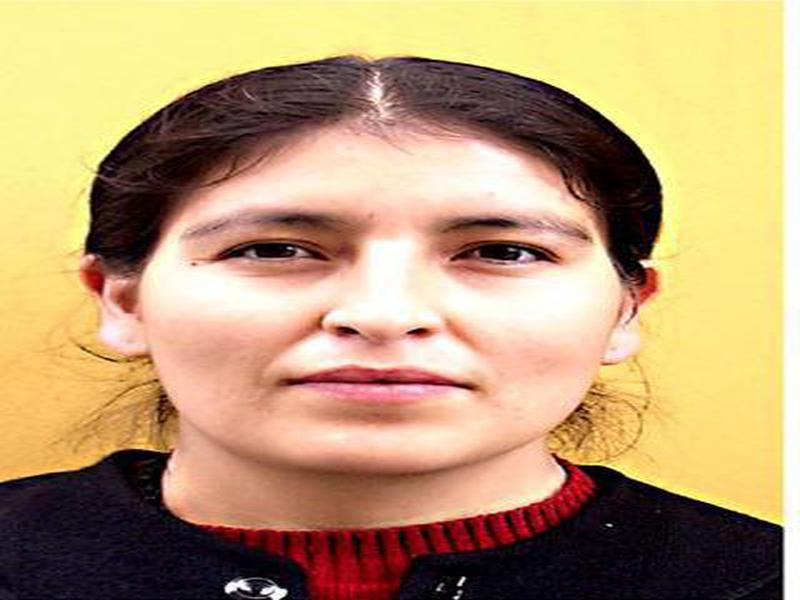without_mask: (144, 144, 617, 480)
